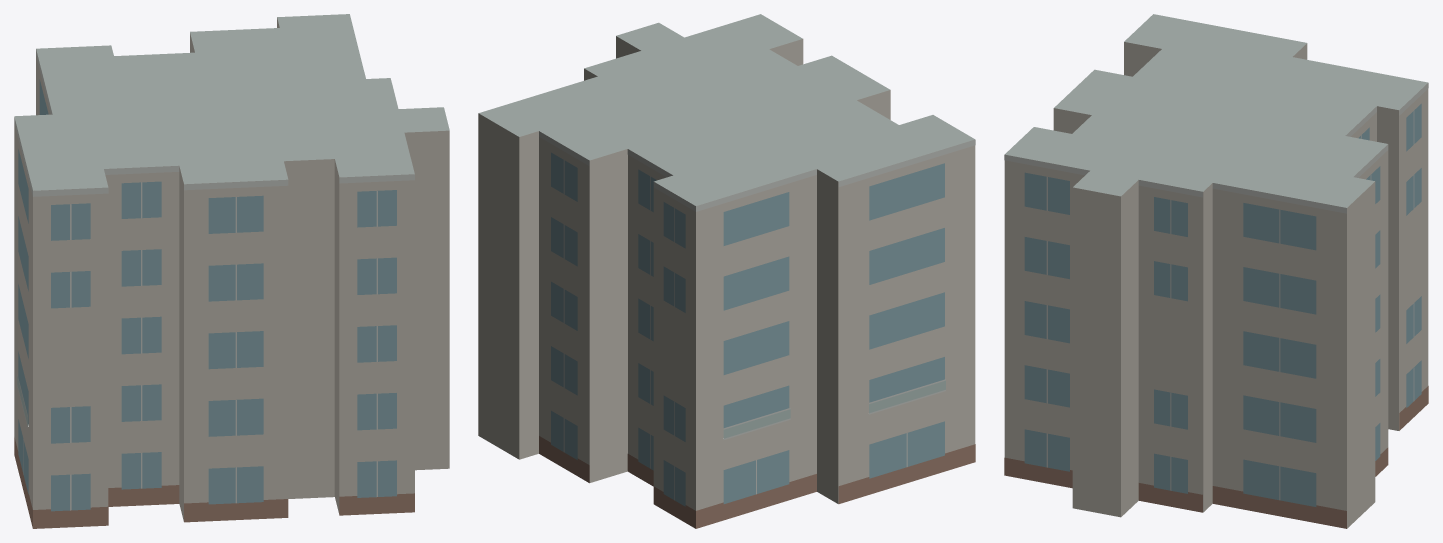
The model's file is survey-upis-32550912.glb.
The picture shows the model from 3 angles, left to right: view 1: azimuth 30°, elevation 25°; view 2: azimuth 150°, elevation 25°; view 3: azimuth 270°, elevation 25°; orthographic projection. The views are drawn at different scales.
Parts seen in each view (by area): view 1: survey-upis-32550912.tmp; view 2: survey-upis-32550912.tmp; view 3: survey-upis-32550912.tmp.
Boxes of the visible parts, x1,y1,x2,y2 form: survey-upis-32550912.tmp: (14,14,449,528); survey-upis-32550912.tmp: (478,14,975,528); survey-upis-32550912.tmp: (1004,14,1428,528).
Size of the model in its own units: 17.64 by 13.6 by 16.29.
